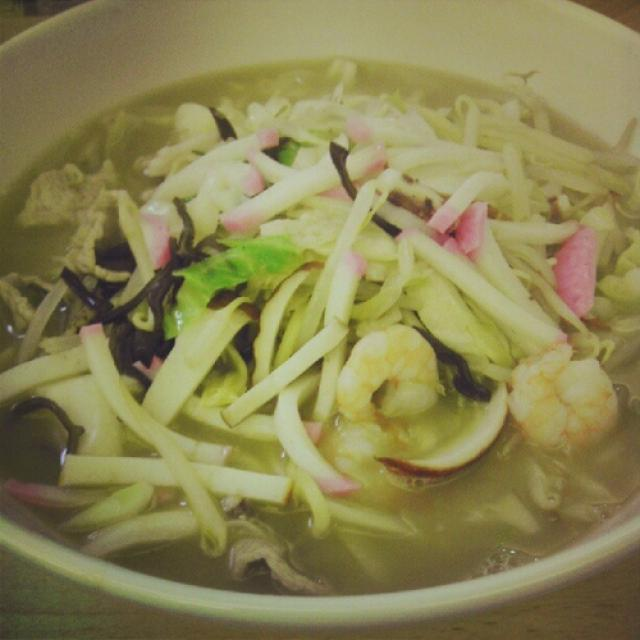熟制海鲜: (21, 39, 612, 571)
